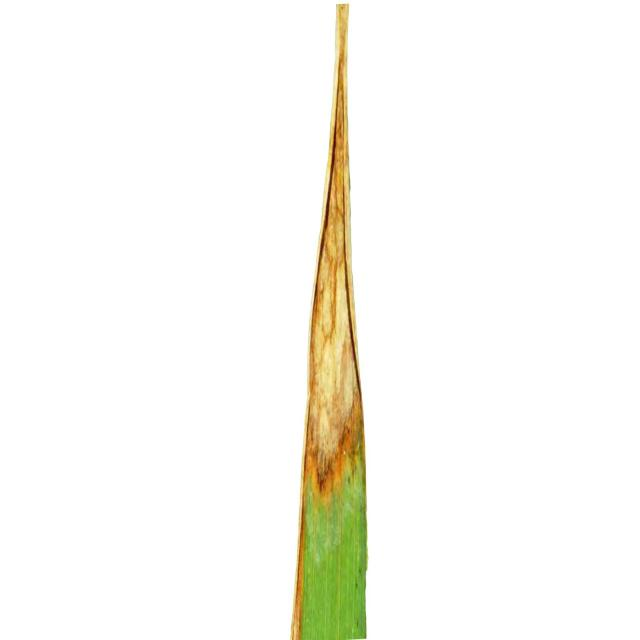Leaf scald: (150, 0, 514, 640)
